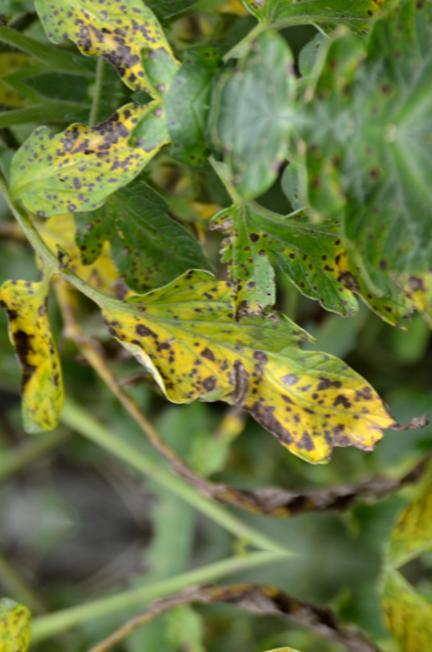Tomato Early blight leaf: (81, 277, 404, 469), (0, 80, 171, 239), (0, 268, 78, 441)
